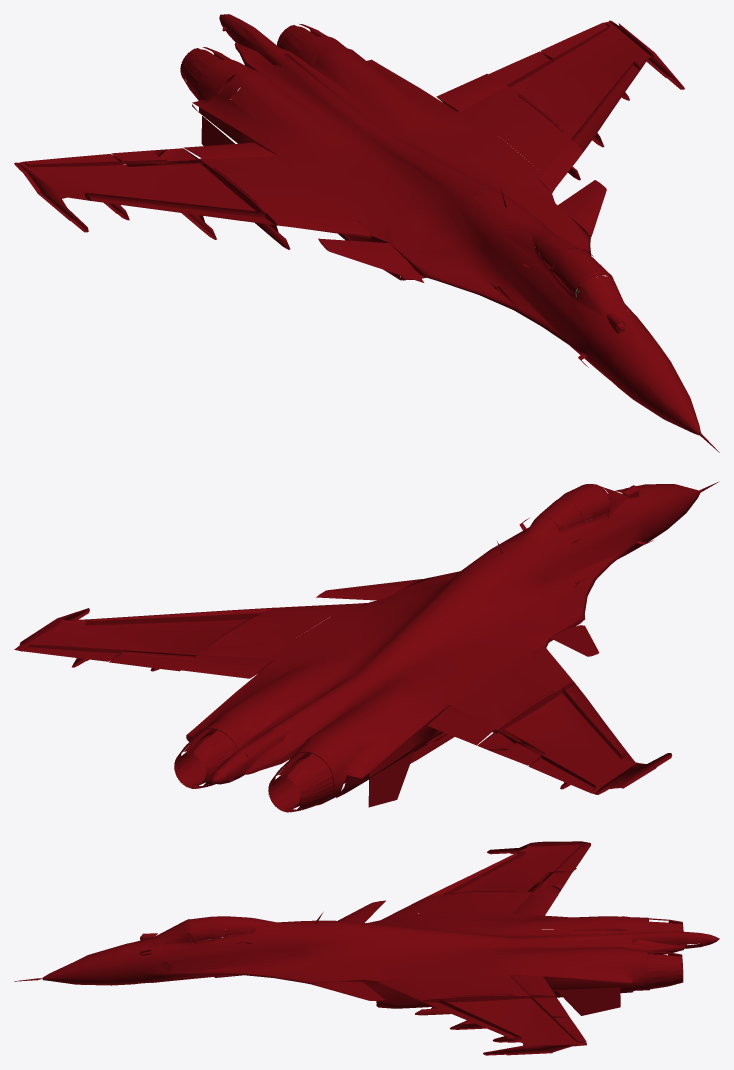
File: airplane2.glb
3 views of the same model, one above another, from view 1: azimuth 30°, elevation 25°; view 2: azimuth 150°, elevation 25°; view 3: azimuth 270°, elevation 25° (orthographic). The views are drawn at different scales.
Parts seen in each view (by area): view 1: J15_00, J15_10, J15_06, J15_14, J15_19, J15_03, J15_20, J15_07; view 2: J15_00, J15_10, J15_06, J15_14, J15_03, J15_20, J15_07, J15_11, J15_19; view 3: J15_00, J15_06, J15_10, J15_14, J15_03, J15_20, J15_19, J15_11.
Part boxes in pixels (x1=…): J15_00: x1=180, y1=14, x2=719, y2=452; J15_10: x1=14, y1=148, x2=277, y2=239; J15_06: x1=488, y1=20, x2=684, y2=152; J15_14: x1=535, y1=234, x2=613, y2=298; J15_19: x1=318, y1=238, x2=423, y2=282; J15_03: x1=412, y1=158, x2=510, y2=207; J15_20: x1=558, y1=180, x2=606, y2=237; J15_07: x1=541, y1=22, x2=609, y2=61; J15_00: x1=174, y1=481, x2=719, y2=812; J15_10: x1=477, y1=682, x2=672, y2=794; J15_06: x1=14, y1=607, x2=273, y2=671; J15_14: x1=534, y1=484, x2=610, y2=532; J15_03: x1=409, y1=561, x2=506, y2=629; J15_20: x1=316, y1=579, x2=422, y2=600; J15_07: x1=23, y1=644, x2=121, y2=661; J15_11: x1=528, y1=755, x2=595, y2=792; J15_19: x1=550, y1=625, x2=599, y2=656; J15_00: x1=14, y1=891, x2=719, y2=1015; J15_06: x1=422, y1=994, x2=586, y2=1055; J15_10: x1=427, y1=841, x2=590, y2=896; J15_14: x1=186, y1=916, x2=255, y2=945; J15_03: x1=333, y1=921, x2=429, y2=938; J15_20: x1=312, y1=981, x2=384, y2=1000; J15_19: x1=338, y1=900, x2=385, y2=922; J15_11: x1=555, y1=845, x2=590, y2=871.
Bounding box in the file's own units: 14.54 × 2.77 × 21.34.
2 materials, 1 textured.
